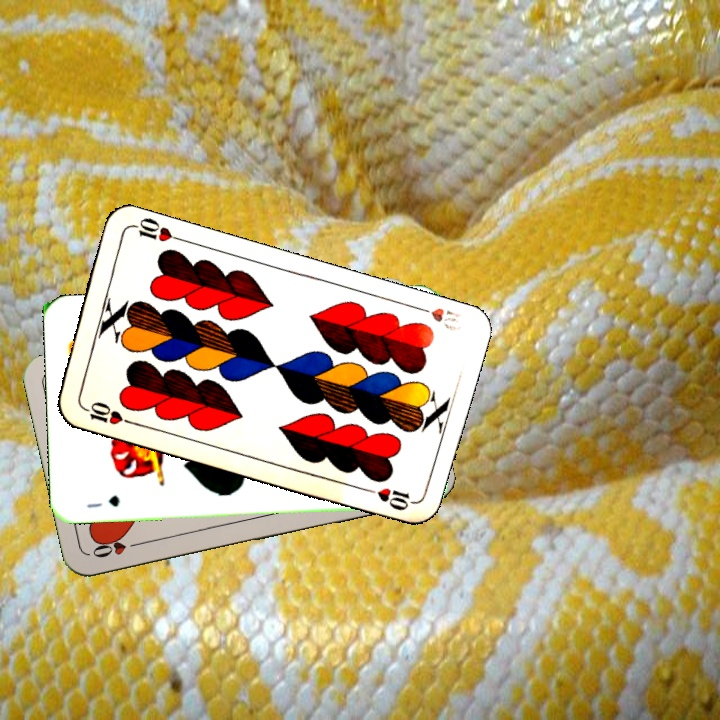GU: (83, 491, 122, 511)
H10: (409, 301, 464, 334), (77, 397, 135, 428)
HO: (88, 535, 146, 561)
